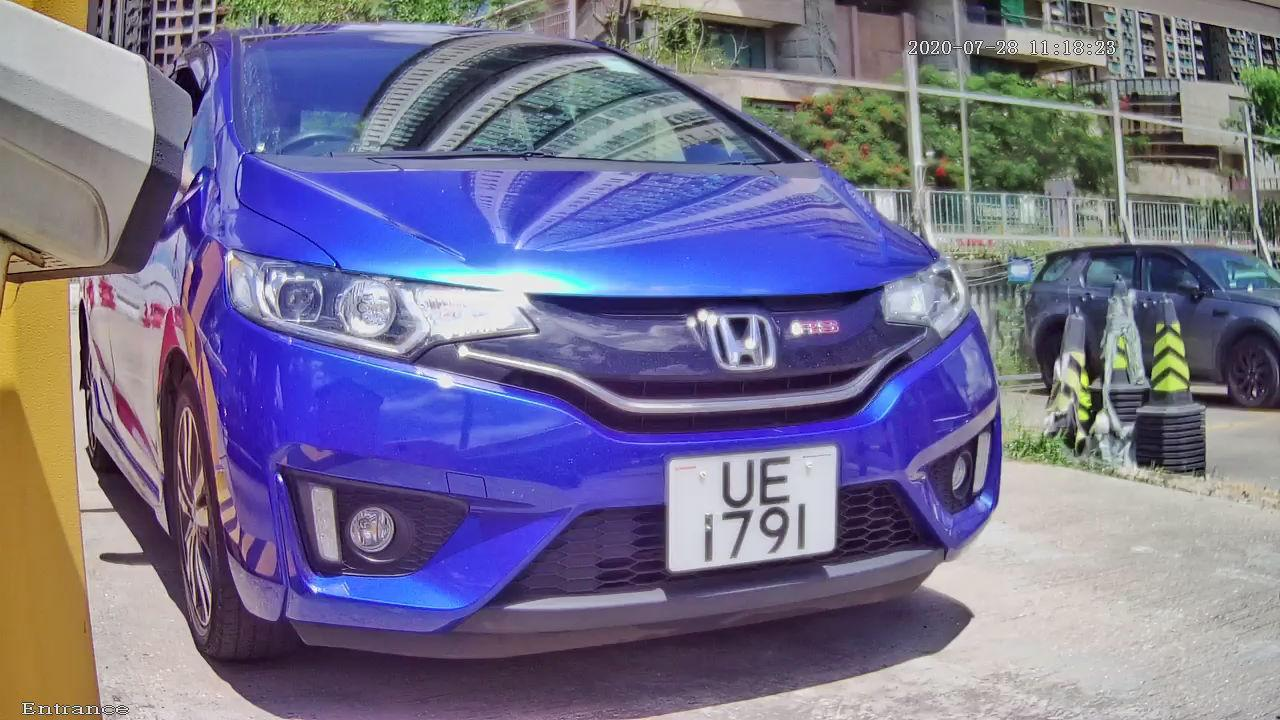privatecar: (29, 13, 1132, 708)
